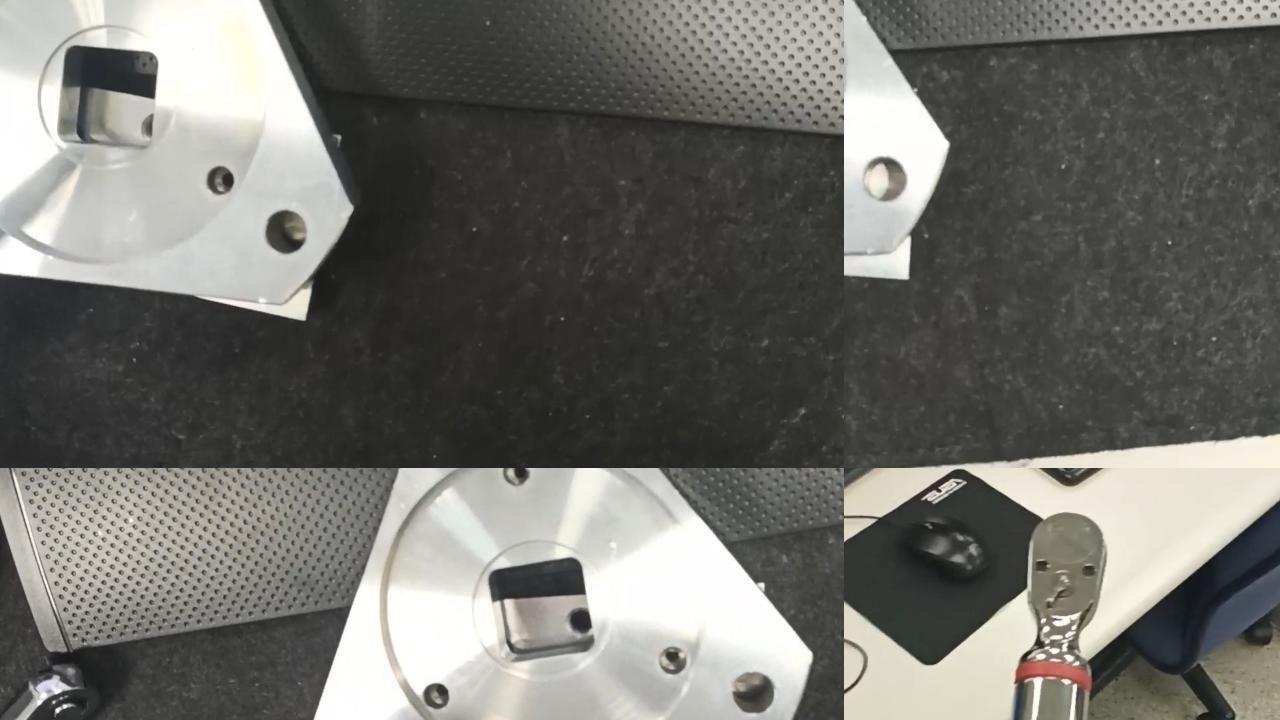Tool: (1014, 507, 1113, 664), (0, 658, 97, 720)
hole: (727, 661, 784, 719), (861, 152, 907, 209), (263, 208, 313, 255), (657, 645, 688, 678), (202, 164, 233, 196), (422, 680, 452, 713), (495, 467, 534, 488)
